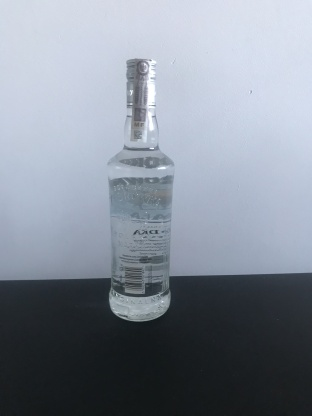nakretka: (122, 53, 160, 110)
